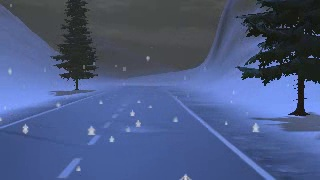Lane: (0, 86, 262, 179)
